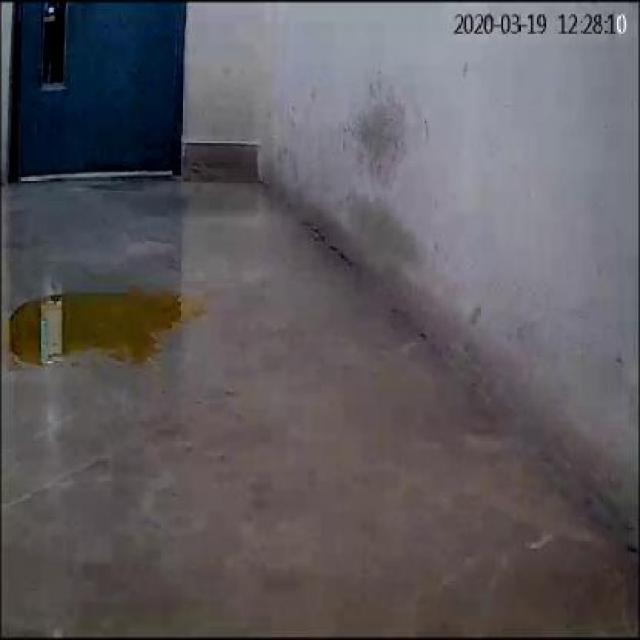spill: (3, 288, 206, 363)
